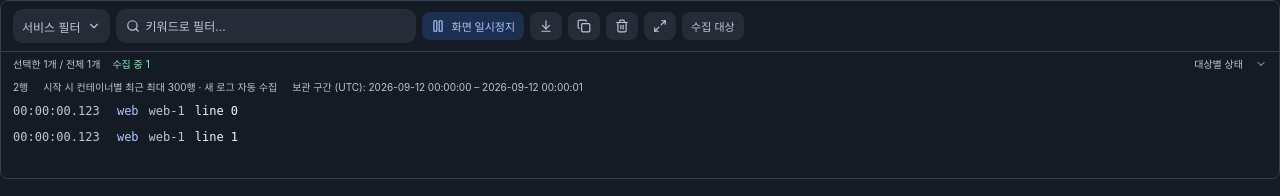
Test case: project log query deadlines › queues changed filters behind an active query instead of issuing duplicate reads
In the search field: [276, 26] box [146, 9, 406, 43], type "latest filter"
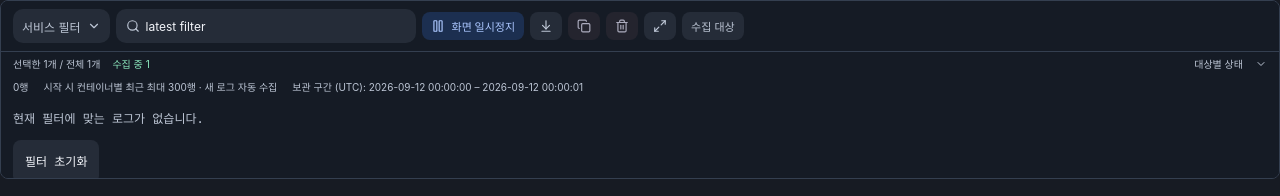
Result: the text "현재 필터에 맞는 로그가 없습니다." is shown at [13, 112, 204, 126]
